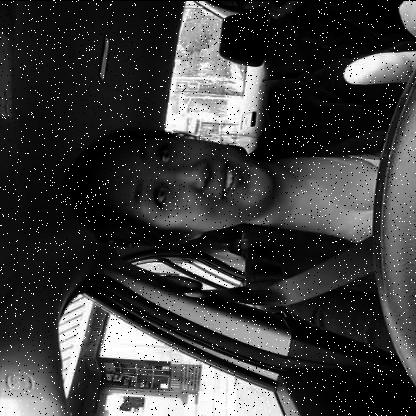seatbelt: (37, 86, 372, 308)
